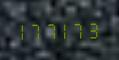one: (17, 20, 30, 40), (60, 19, 73, 39)
seven: (31, 20, 44, 40), (46, 20, 59, 40), (74, 19, 87, 39)
three: (88, 19, 101, 39)
